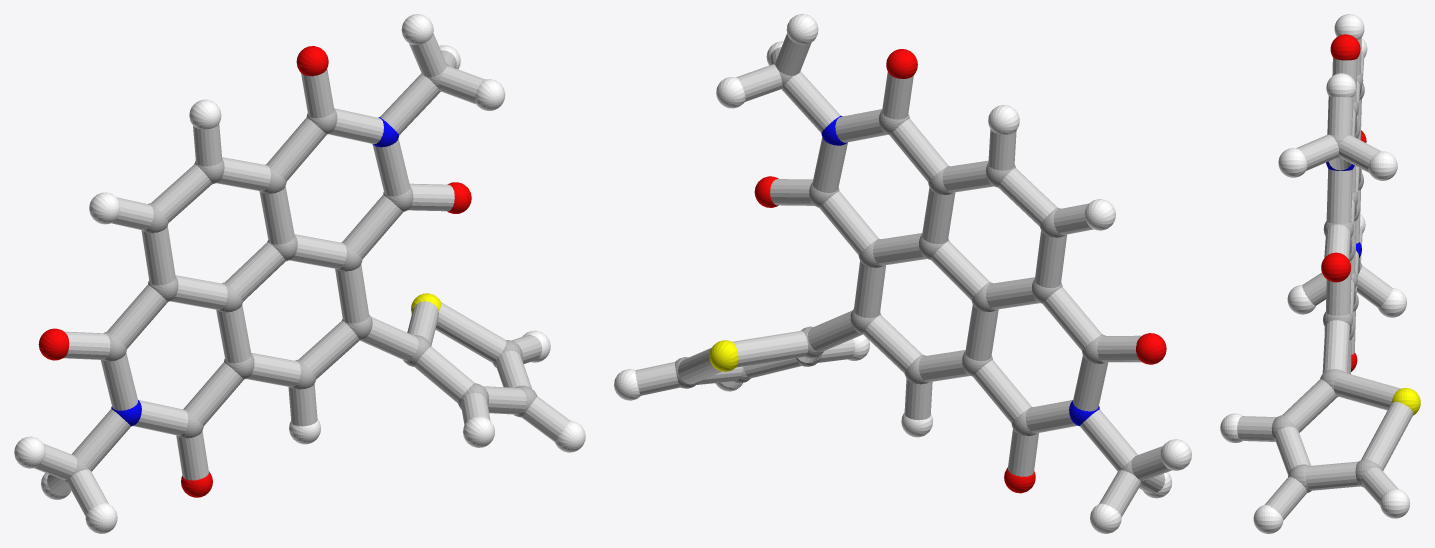
File: Dimethyl_Naphthalene_Dicarboximide_Phi_5_Theta_110_Thiophene.glb
The picture shows the model from 3 angles, left to right: view 1: azimuth 30°, elevation 25°; view 2: azimuth 150°, elevation 25°; view 3: azimuth 270°, elevation 25°; orthographic projection. The views are drawn at different scales.
Visible parts, largest first — view 1: grp14119, grp7241, grp1, grp12309, grp11585; view 2: grp14119, grp7241, grp1, grp12309, grp13757, grp11585; view 3: grp14119, grp7241, grp1, grp12309, grp13757.
Part boxes in pixels (x1,y1,x2,y2): grp14119: (34,33,570,515); grp7241: (14,14,585,533); grp1: (62,63,537,483); grp12309: (38,46,471,497); grp11585: (111,117,398,426); grp14119: (635,33,1171,516); grp7241: (614,14,1191,533); grp1: (675,61,1146,484); grp12309: (754,49,1166,493); grp13757: (709,340,738,371); grp11585: (821,115,1099,426); grp14119: (1237,38,1413,520); grp7241: (1220,14,1409,533); grp1: (1271,73,1382,492); grp12309: (1321,34,1366,371); grp13757: (1391,388,1420,415).
Bounding box in the file's own units: 12 × 8.97 × 4.01.
